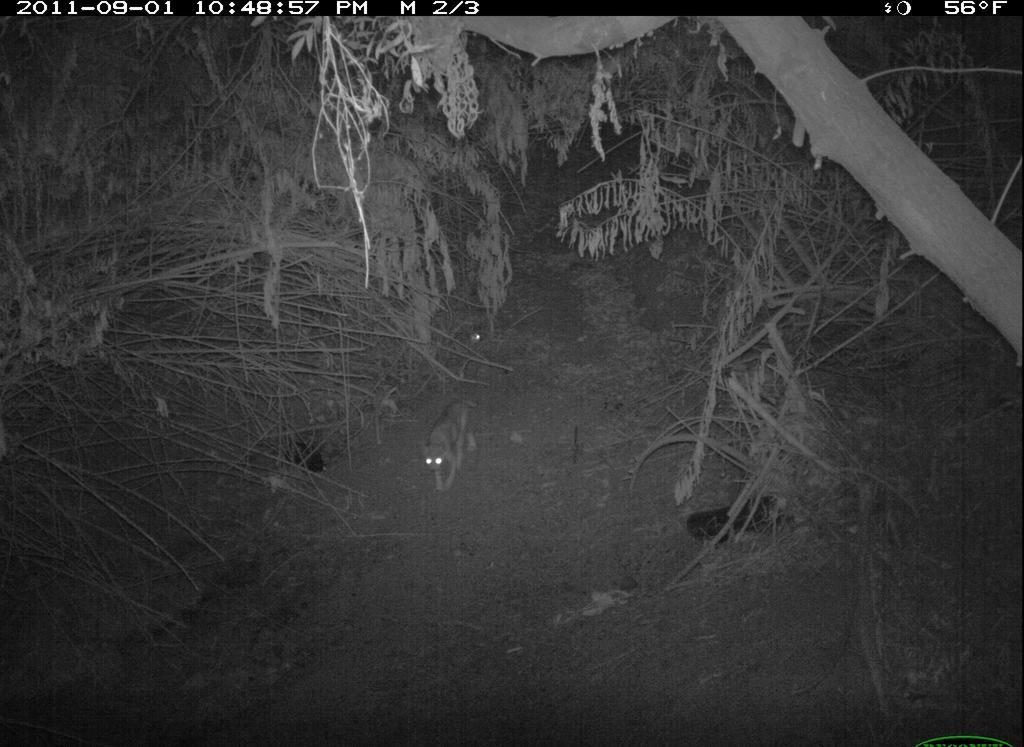bobcat: (420, 396, 489, 498)
